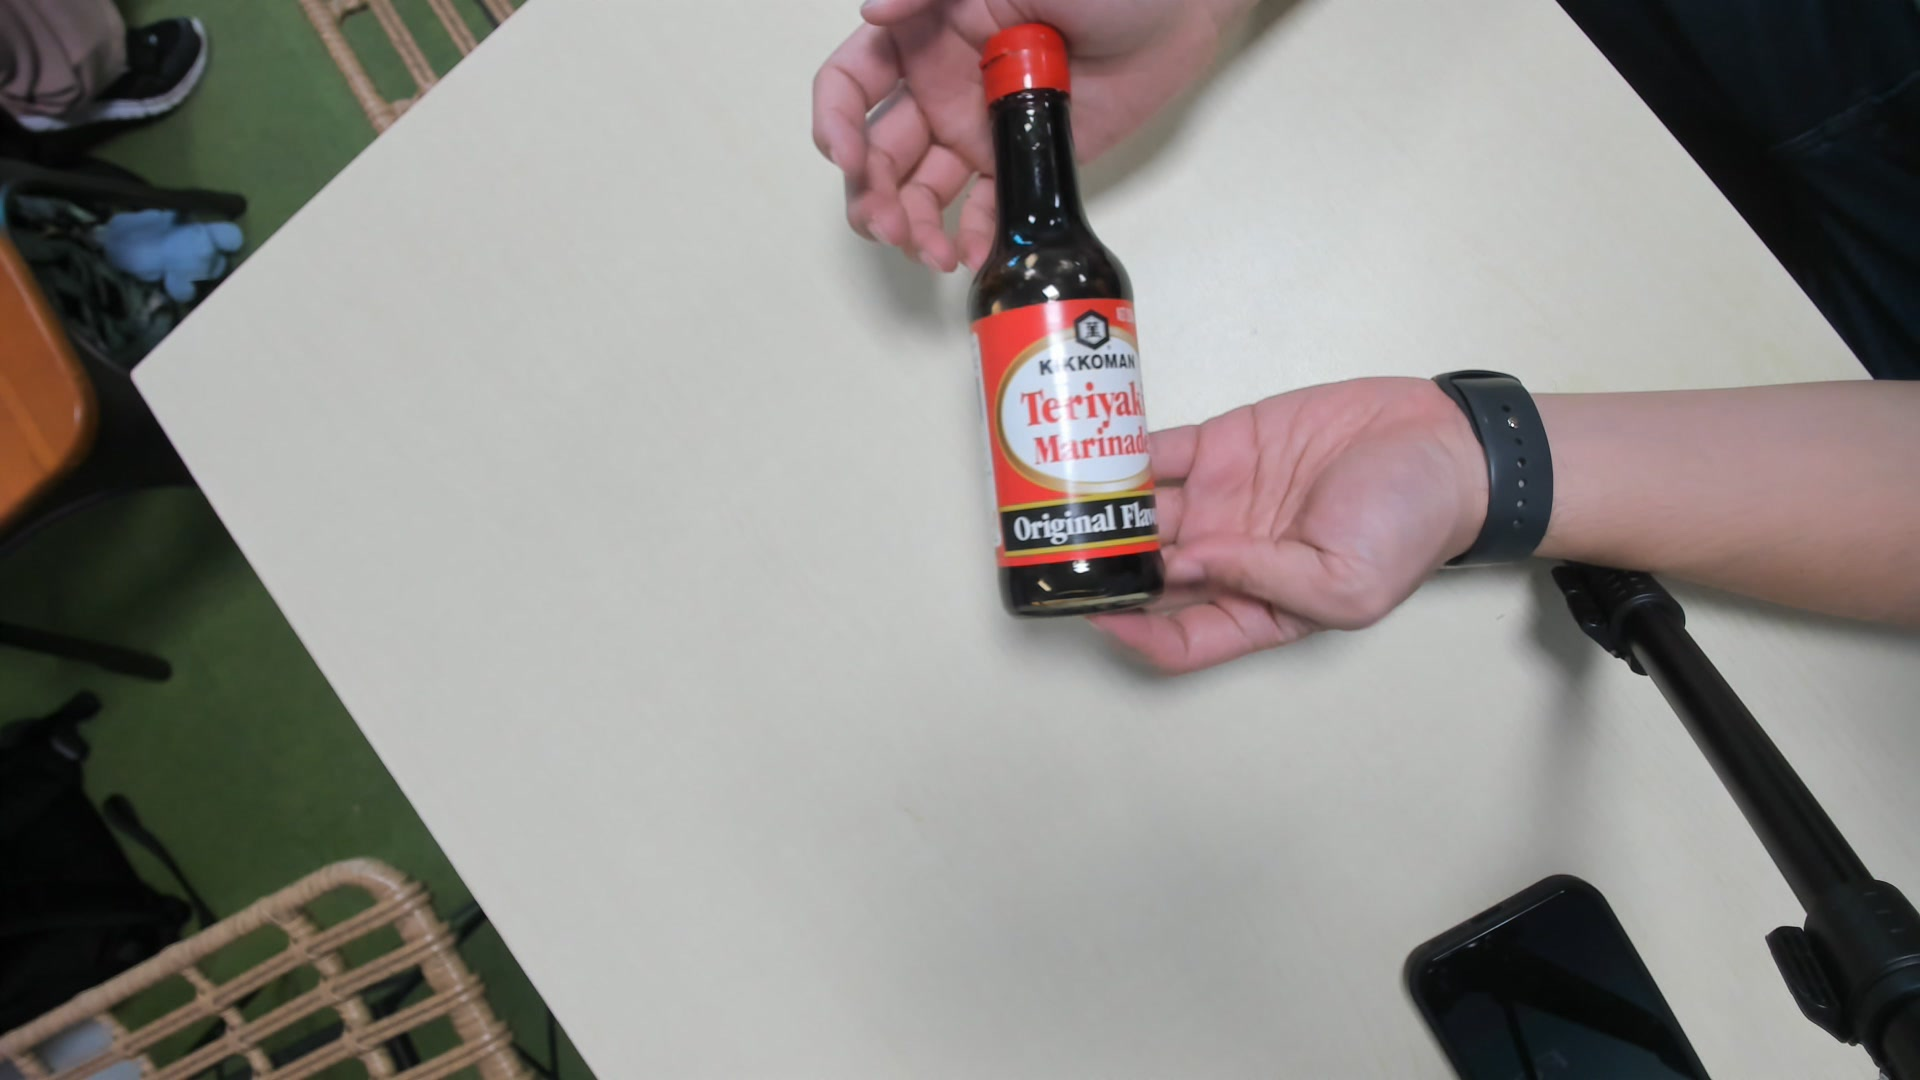OtherSauceDressing_200-299g_NonHalal_NonHealthy: (967, 12, 1162, 622)
